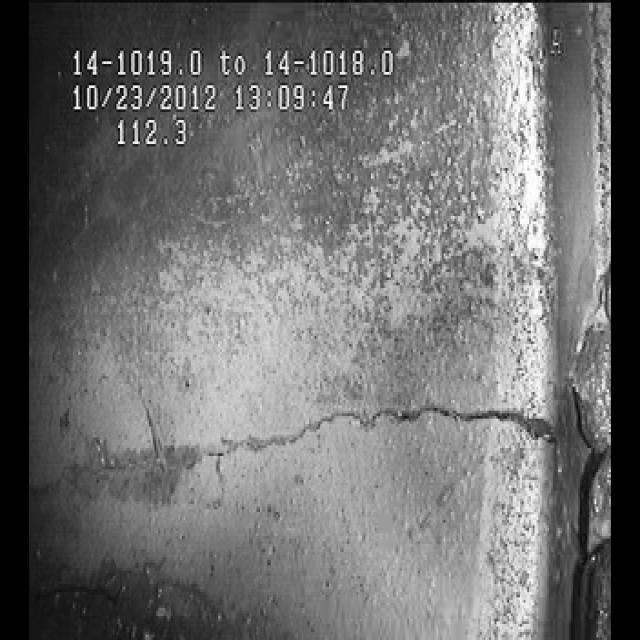Crack: (178, 345, 522, 503)
